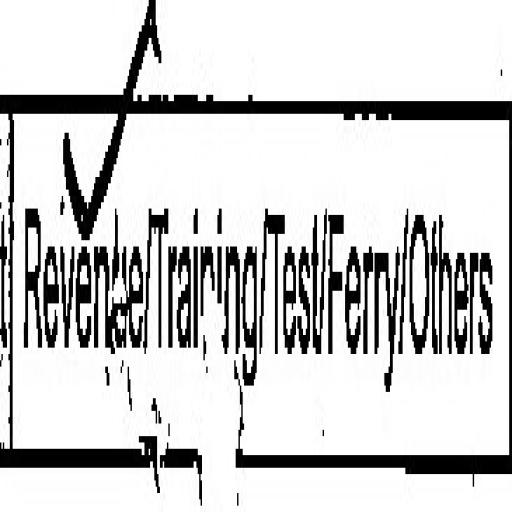check: (10, 0, 149, 482)
